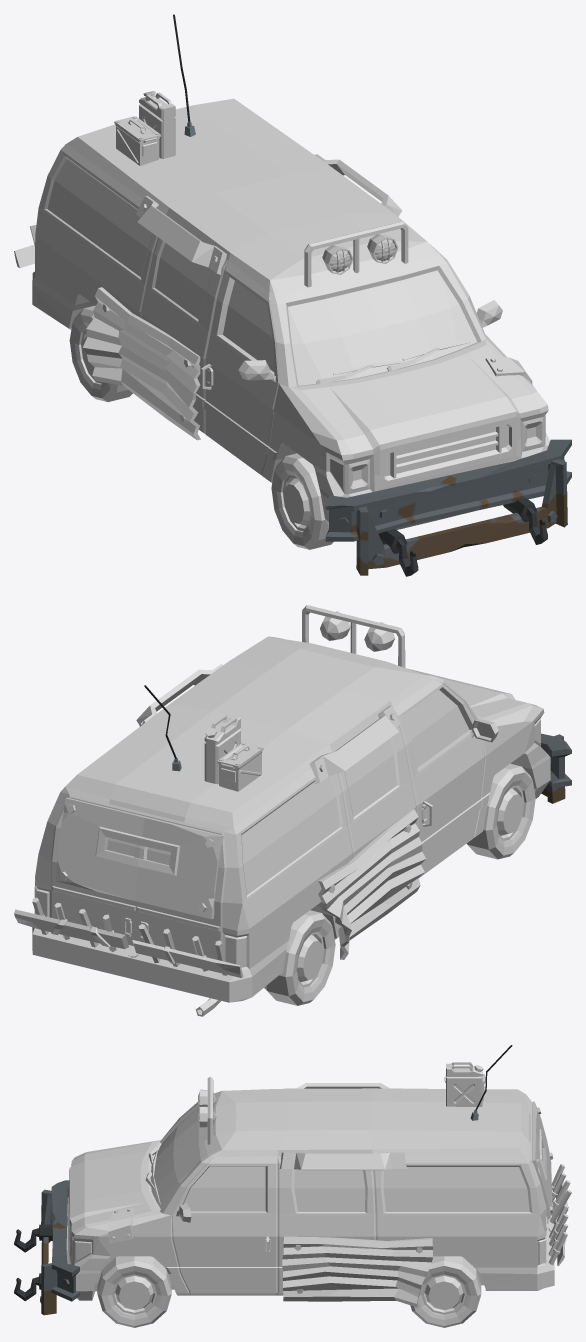
File: car5.fbx
The picture shows the model from 3 angles, top to bottom: view 1: azimuth 30°, elevation 25°; view 2: azimuth 150°, elevation 25°; view 3: azimuth 270°, elevation 25°; orthographic projection. The views are drawn at different scales.
Visible parts, largest first — view 1: SM_Veh_NewsVan_01, SM_Veh_Attach_Bumper_03, SM_Veh_NewsVan_Armour_01, SM_Veh_NewsVan_Glass_01, SM_Veh_NewsVan_Wheel_fr, SM_Veh_NewsVan_Roof_Props_01, SM_Veh_NewsVan_Wheel_rl; view 2: SM_Veh_NewsVan_01, SM_Veh_NewsVan_Armour_01, SM_Veh_NewsVan_Wheel_rl, SM_Veh_NewsVan_Wheel_fr, SM_Veh_NewsVan_Door_r, SM_Veh_NewsVan_Door_l, SM_Veh_NewsVan_Roof_Props_01, SM_Veh_NewsVan_Glass_01, SM_Veh_Attach_Bumper_03; view 3: SM_Veh_NewsVan_01, SM_Veh_NewsVan_Armour_01, SM_Veh_NewsVan_Glass_01, SM_Veh_NewsVan_Wheel_fl, SM_Veh_Attach_Bumper_03, SM_Veh_NewsVan_Wheel_rl1, SM_Veh_NewsVan_Roof_Props_01.
Part boxes in pixels (<box>): SM_Veh_NewsVan_01: <box>32,98,549,529</box>; SM_Veh_Attach_Bumper_03: <box>325,439,571,576</box>; SM_Veh_NewsVan_Armour_01: <box>14,154,532,440</box>; SM_Veh_NewsVan_Glass_01: <box>223,270,476,385</box>; SM_Veh_NewsVan_Wheel_fr: <box>271,453,333,549</box>; SM_Veh_NewsVan_Roof_Props_01: <box>114,91,175,165</box>; SM_Veh_NewsVan_Wheel_rl: <box>69,305,132,401</box>; SM_Veh_NewsVan_01: <box>32,636,550,1016</box>; SM_Veh_NewsVan_Armour_01: <box>14,605,433,977</box>; SM_Veh_NewsVan_Wheel_rl: <box>264,910,335,1005</box>; SM_Veh_NewsVan_Wheel_fr: <box>466,763,535,859</box>; SM_Veh_NewsVan_Door_r: <box>136,816,224,959</box>; SM_Veh_NewsVan_Door_l: <box>52,797,145,944</box>; SM_Veh_NewsVan_Roof_Props_01: <box>204,714,263,791</box>; SM_Veh_NewsVan_Glass_01: <box>405,690,469,767</box>; SM_Veh_Attach_Bumper_03: <box>541,733,571,803</box>; SM_Veh_NewsVan_01: <box>66,1088,554,1300</box>; SM_Veh_NewsVan_Armour_01: <box>108,1076,571,1307</box>; SM_Veh_NewsVan_Glass_01: <box>150,1107,265,1211</box>; SM_Veh_NewsVan_Wheel_fl: <box>97,1256,171,1327</box>; SM_Veh_Attach_Bumper_03: <box>14,1180,79,1315</box>; SM_Veh_NewsVan_Wheel_rl1: <box>410,1256,481,1327</box>; SM_Veh_NewsVan_Roof_Props_01: <box>444,1062,485,1106</box>.
Bounding box in the file's own units: 258 × 292 × 597.
